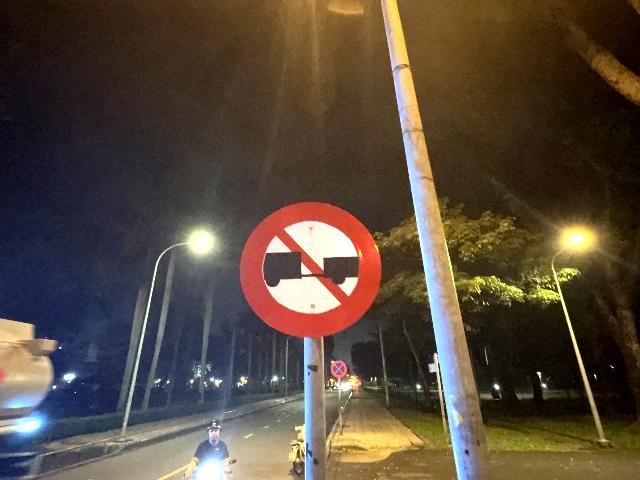cam-xe-somi-romooc: (240, 200, 381, 338)
